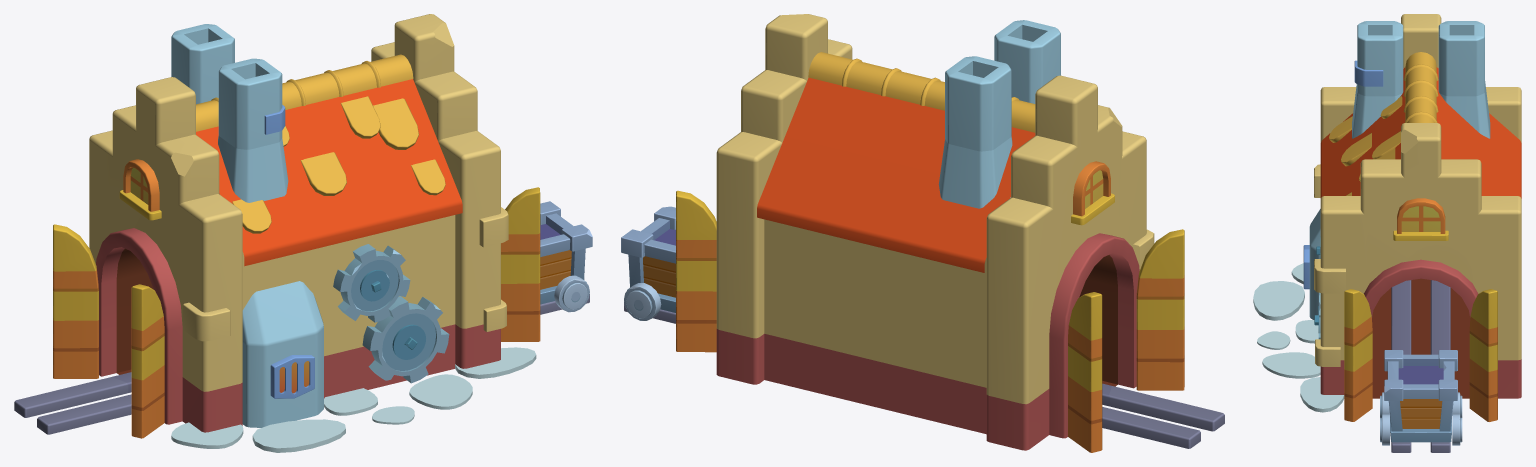
The model's file is BeamsFactory.fbx.
3 renders of one model, left to right at view 1: azimuth 30°, elevation 25°; view 2: azimuth 150°, elevation 25°; view 3: azimuth 270°, elevation 25°, orthographic. The views are drawn at different scales.
Parts seen in each view (by area): view 1: BeamFactory, Gear_2, BuggyMain, Gear_1; view 2: BeamFactory, BuggyMain; view 3: BeamFactory, BuggyMain.
Part boxes in pixels (x1,y1,x2,y2): BeamFactory: [14, 14, 589, 452]; Gear_2: [362, 296, 449, 383]; BuggyMain: [540, 201, 592, 312]; Gear_1: [333, 244, 410, 322]; BeamFactory: [624, 14, 1224, 452]; BuggyMain: [621, 206, 675, 320]; BeamFactory: [1253, 14, 1521, 452]; BuggyMain: [1380, 350, 1462, 445].
Size of the model in its own units: 1063 by 601 by 527.
